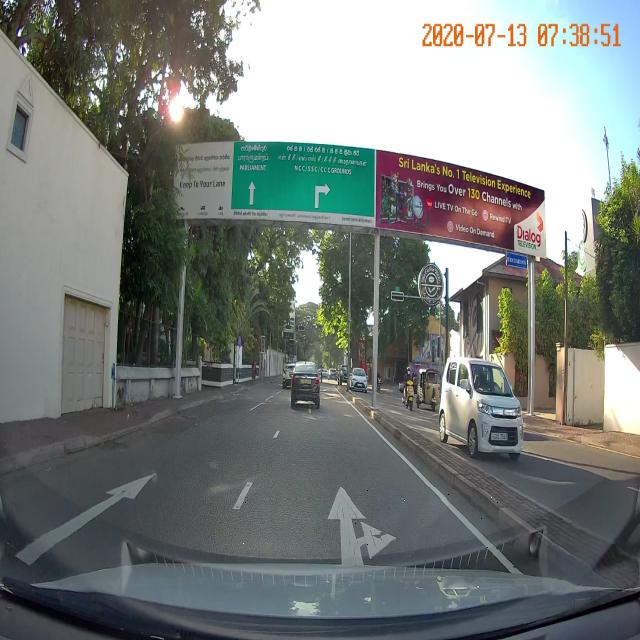forward_right: (200, 487, 500, 553), (203, 493, 497, 551), (202, 500, 498, 555)
